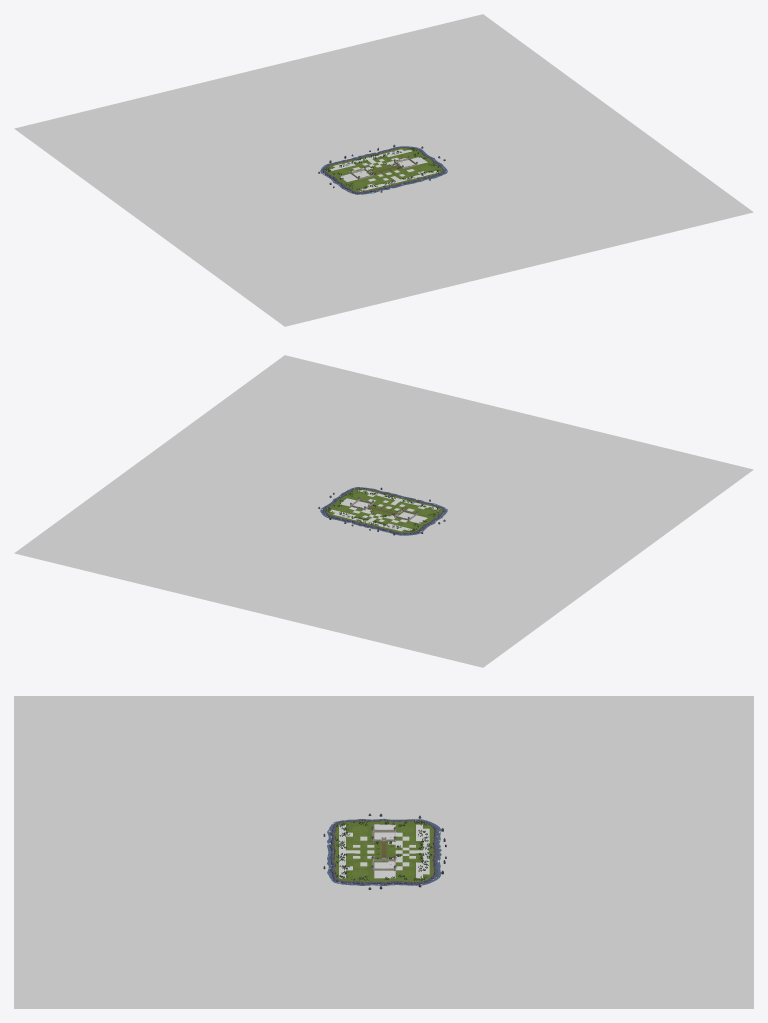
The model's file is battlefield.fbx.
The picture shows the model from 3 angles, top to bottom: view 1: azimuth 30°, elevation 25°; view 2: azimuth 150°, elevation 25°; view 3: azimuth 270°, elevation 25°; orthographic projection. The views are drawn at different scales.
Visible parts, largest first — view 1: BF_Sea_Deep_1_0, BF_Sea_Deep_1_2, BF_Sea_Deep_0_1, BF_Sea_Deep_2_1, BF_Sea_Deep_0_2, BF_Sea_Deep_2_0, BF_Sea_Deep_0_0, BF_Sea_Deep_2_2, BF_Sea_Deep_1_1; view 2: BF_Sea_Deep_1_0, BF_Sea_Deep_1_2, BF_Sea_Deep_0_1, BF_Sea_Deep_2_1, BF_Sea_Deep_0_0, BF_Sea_Deep_2_2, BF_Sea_Deep_0_2, BF_Sea_Deep_2_0, BF_Sea_Deep_1_1; view 3: BF_Sea_Deep_0_1, BF_Sea_Deep_2_1, BF_Sea_Deep_0_0, BF_Sea_Deep_0_2, BF_Sea_Deep_1_0, BF_Sea_Deep_1_2, BF_Sea_Deep_2_0, BF_Sea_Deep_2_2, BF_Sea_Deep_1_1, BF_Sea_Shallows.
Part boxes in pixels (box(x1,y1,x2,y2)): BF_Sea_Deep_1_0: box(351, 184, 597, 288); BF_Sea_Deep_1_2: box(170, 52, 416, 156); BF_Sea_Deep_0_1: box(104, 156, 350, 260); BF_Sea_Deep_2_1: box(417, 80, 663, 184); BF_Sea_Deep_0_2: box(14, 90, 260, 194); BF_Sea_Deep_2_0: box(507, 146, 753, 250); BF_Sea_Deep_0_0: box(195, 222, 440, 326); BF_Sea_Deep_2_2: box(327, 14, 572, 118); BF_Sea_Deep_1_1: box(261, 118, 506, 222); BF_Sea_Deep_1_0: box(351, 393, 597, 497); BF_Sea_Deep_1_2: box(170, 525, 416, 629); BF_Sea_Deep_0_1: box(417, 497, 663, 601); BF_Sea_Deep_2_1: box(104, 421, 350, 525); BF_Sea_Deep_0_0: box(507, 431, 753, 535); BF_Sea_Deep_2_2: box(14, 487, 260, 591); BF_Sea_Deep_0_2: box(327, 563, 572, 667); BF_Sea_Deep_2_0: box(195, 355, 440, 459); BF_Sea_Deep_1_1: box(261, 459, 506, 563); BF_Sea_Deep_0_1: box(260, 696, 507, 800); BF_Sea_Deep_2_1: box(260, 904, 507, 1008); BF_Sea_Deep_0_0: box(14, 696, 260, 800); BF_Sea_Deep_0_2: box(507, 696, 753, 800); BF_Sea_Deep_1_0: box(14, 800, 260, 904); BF_Sea_Deep_1_2: box(507, 800, 753, 904); BF_Sea_Deep_2_0: box(14, 904, 260, 1008); BF_Sea_Deep_2_2: box(507, 904, 753, 1008); BF_Sea_Deep_1_1: box(260, 800, 507, 904); BF_Sea_Shallows: box(327, 818, 441, 885).
Bounding box in the file's own units: 6000 × 84.3 × 6000.
